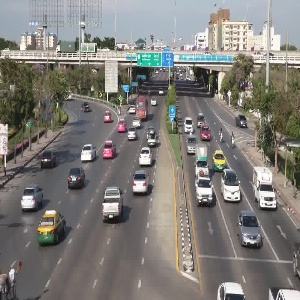car: (228, 207, 269, 253), (34, 210, 70, 247), (17, 182, 44, 213), (62, 163, 90, 192), (34, 146, 61, 171)
truck: (249, 181, 288, 216), (99, 185, 128, 221), (191, 175, 218, 207), (233, 113, 254, 134)
van: (219, 168, 244, 202)
